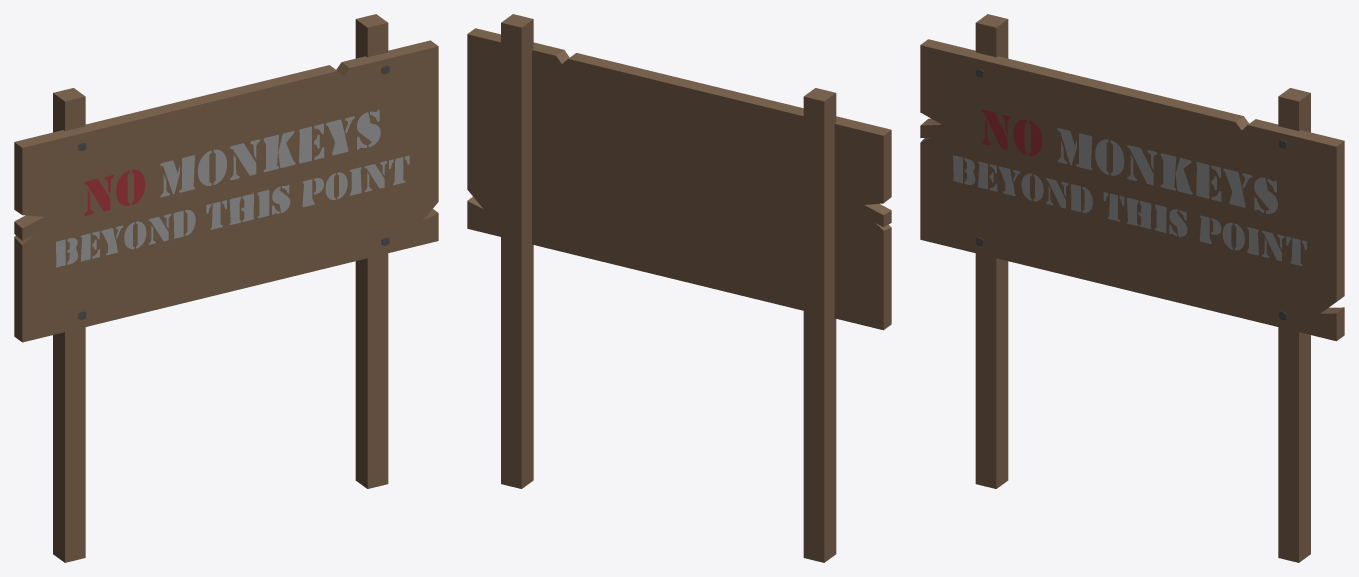
The model's file is WarningSign.fbx.
3 views of the same model, side by side, from view 1: azimuth 30°, elevation 25°; view 2: azimuth 150°, elevation 25°; view 3: azimuth 330°, elevation 25° (orthographic).
Visible parts, largest first — view 1: WarningSign; view 2: WarningSign; view 3: WarningSign.
Boxes of the visible parts, x1=… form: WarningSign: x1=14, y1=14, x2=438, y2=562; WarningSign: x1=467, y1=14, x2=891, y2=562; WarningSign: x1=920, y1=14, x2=1344, y2=562.
Size of the model in its own units: 77.56 by 82.13 by 6.1.
